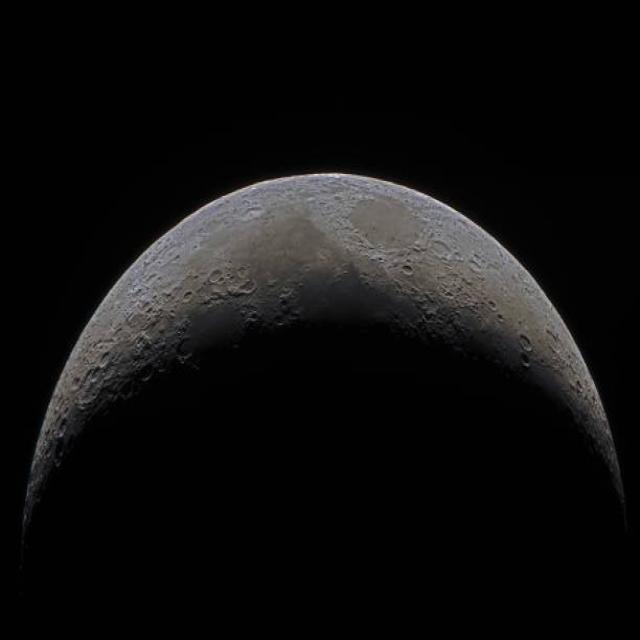moon: (10, 103, 640, 640)
